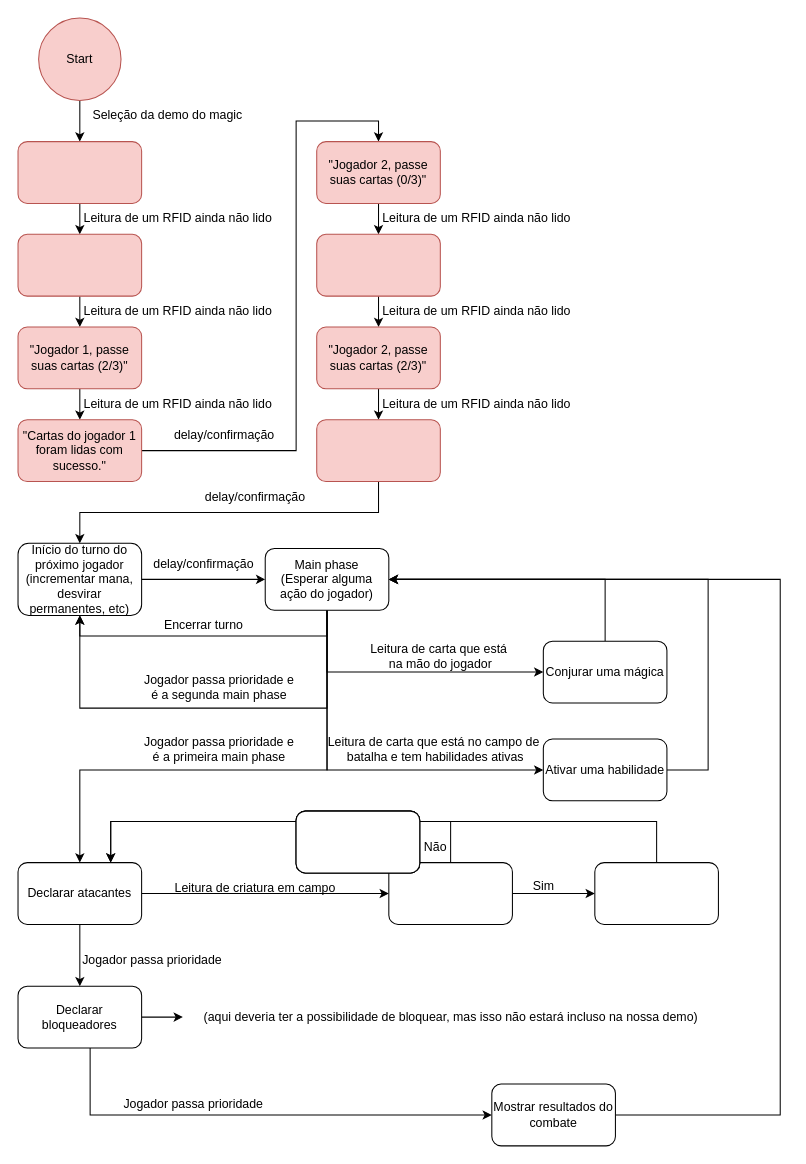
The diagram is 806 pixels wide and 1164 high, and some of its shapes have lost their labels. Here are the shapes that lost their labels. From the top down, the centre of each, then its label:
point (79, 172): "Jogador 1, passe suas cartas (0/3)"
point (79, 264): "Jogador 1, passe suas cartas (1/3)"
point (378, 264): "Jogador 2, passe suas cartas (1/3)"
point (378, 450): "Cartas do jogador 2 foram lidas com sucesso."
point (450, 893): Confirmação
point (656, 893): Adicionar criatura à lista de atacantes
